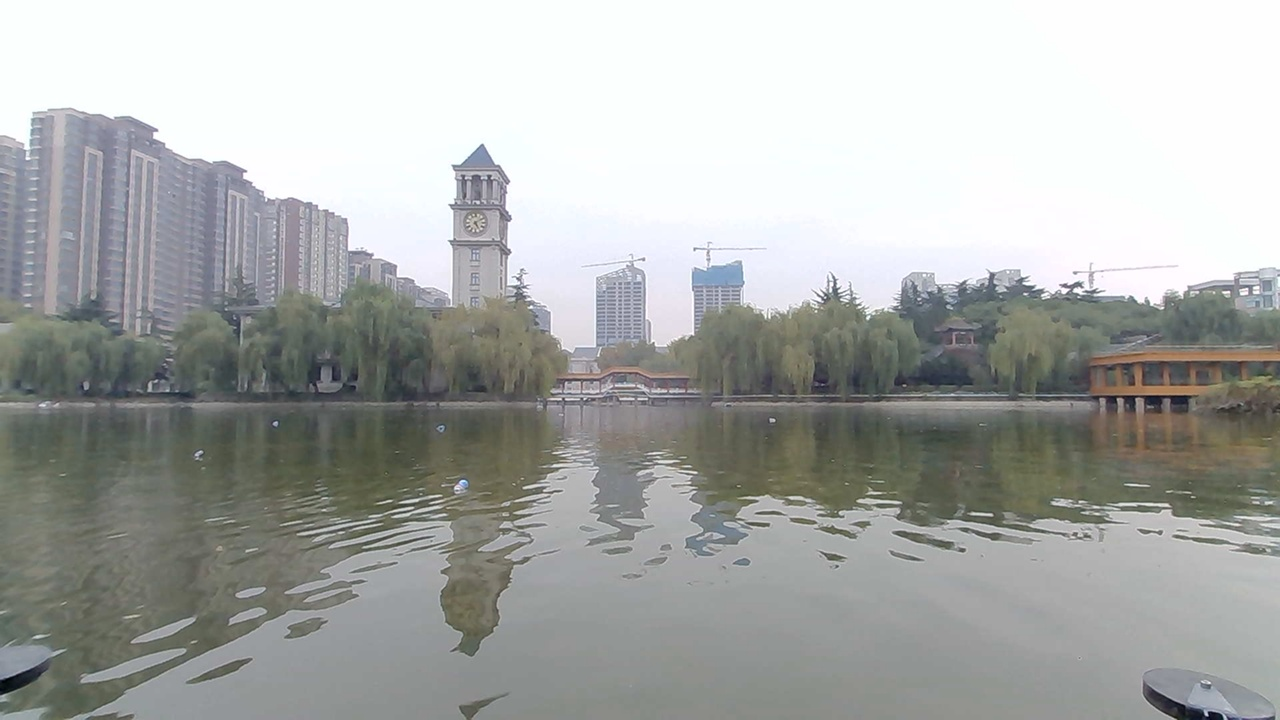bottle: (438, 470, 498, 503), (181, 442, 222, 465), (752, 410, 791, 433), (427, 417, 464, 441), (257, 409, 293, 433)
